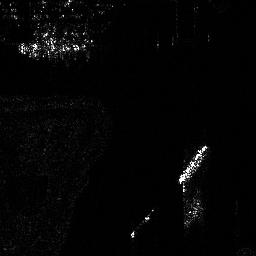ship: (177, 143, 208, 184)
